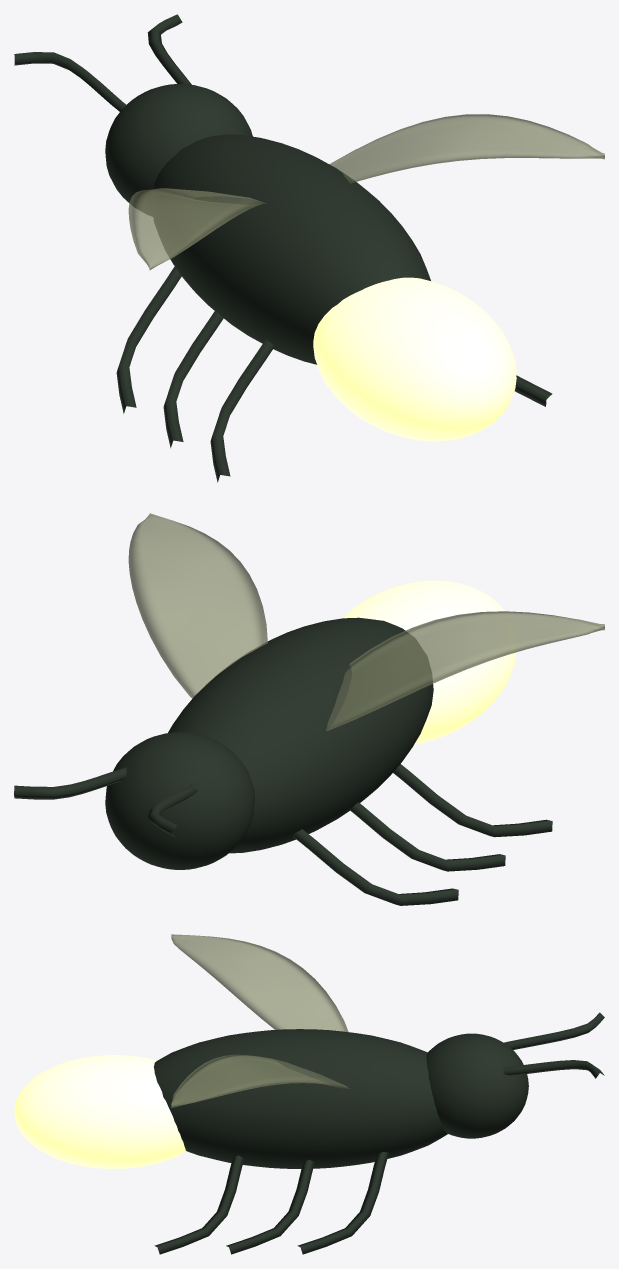
File: firefly.glb
The picture shows the model from 3 angles, top to bottom: view 1: azimuth 30°, elevation 25°; view 2: azimuth 150°, elevation 25°; view 3: azimuth 270°, elevation 25°; orthographic projection. The views are drawn at different scales.
Parts seen in each view (by area): view 1: Elongated thorax, Luminous abdomen, Right membranous wing, Small beetle head, Left membranous wing, Fine articulated leg (×3), Curved antenna (×2); view 2: Elongated thorax, Right membranous wing, Small beetle head, Luminous abdomen, Left membranous wing, Fine articulated leg (×3), Curved antenna (×2); view 3: Elongated thorax, Luminous abdomen, Left membranous wing, Small beetle head, Fine articulated leg (×3), Right membranous wing, Curved antenna (×2).
Boxes of the visible parts, box(x1,y1,x2,y2) form: Elongated thorax: box(152, 134, 430, 364); Luminous abdomen: box(313, 277, 516, 441); Right membranous wing: box(329, 114, 604, 183); Small beetle head: box(105, 84, 252, 216); Left membranous wing: box(128, 188, 266, 270); Fine articulated leg (×3): box(116, 266, 274, 482); Curved antenna (×2): box(14, 14, 191, 111); Elongated thorax: box(168, 617, 433, 853); Right membranous wing: box(128, 513, 267, 698); Small beetle head: box(105, 732, 254, 869); Luminous abdomen: box(342, 580, 516, 744); Left membranous wing: box(326, 611, 604, 731); Fine articulated leg (×3): box(292, 764, 552, 905); Curved antenna (×2): box(14, 767, 197, 837); Elongated thorax: box(154, 1029, 447, 1168); Luminous abdomen: box(14, 1055, 186, 1168); Left membranous wing: box(171, 934, 348, 1031); Small beetle head: box(426, 1033, 528, 1138); Fine articulated leg (×3): box(154, 1152, 388, 1254); Right membranous wing: box(171, 1054, 350, 1107); Curved antenna (×2): box(502, 1012, 604, 1078).
Size of the model in its own units: 0.028 by 0.014 by 0.0413.
